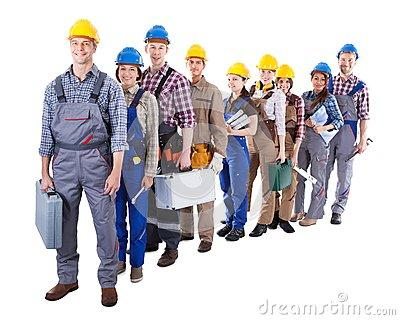helmet: (67, 20, 101, 45), (115, 48, 144, 66), (145, 24, 171, 43), (228, 62, 250, 81), (257, 53, 278, 72), (186, 45, 207, 62), (338, 45, 359, 60), (313, 62, 331, 76), (278, 66, 296, 79)
